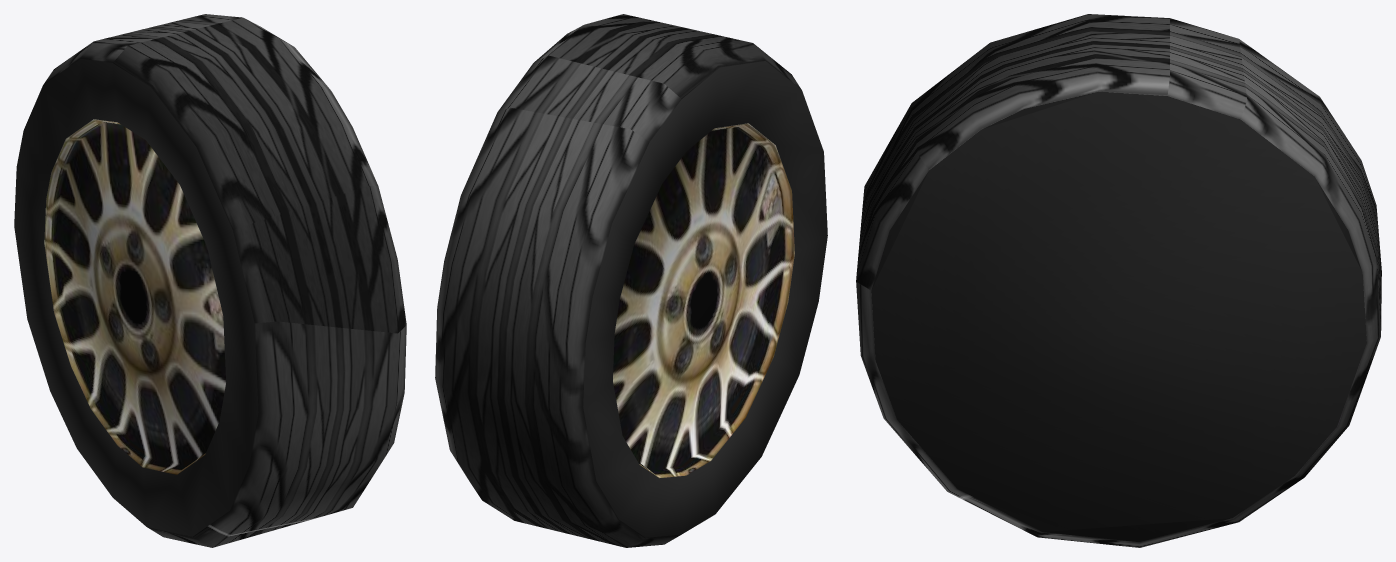
File: wheel6.fbx
The picture shows the model from 3 angles, left to right: view 1: azimuth 30°, elevation 25°; view 2: azimuth 150°, elevation 25°; view 3: azimuth 270°, elevation 25°; orthographic projection.
Visible parts, largest first — view 1: Cylinder; view 2: Cylinder; view 3: Cylinder.
Boxes of the visible parts, <box> form: Cylinder: <box>14,14,406,547</box>; Cylinder: <box>435,14,827,547</box>; Cylinder: <box>856,14,1381,547</box>.
Size of the model in its own units: 73.43 by 221 by 221.
Materials: 1 (1 with a texture image).
